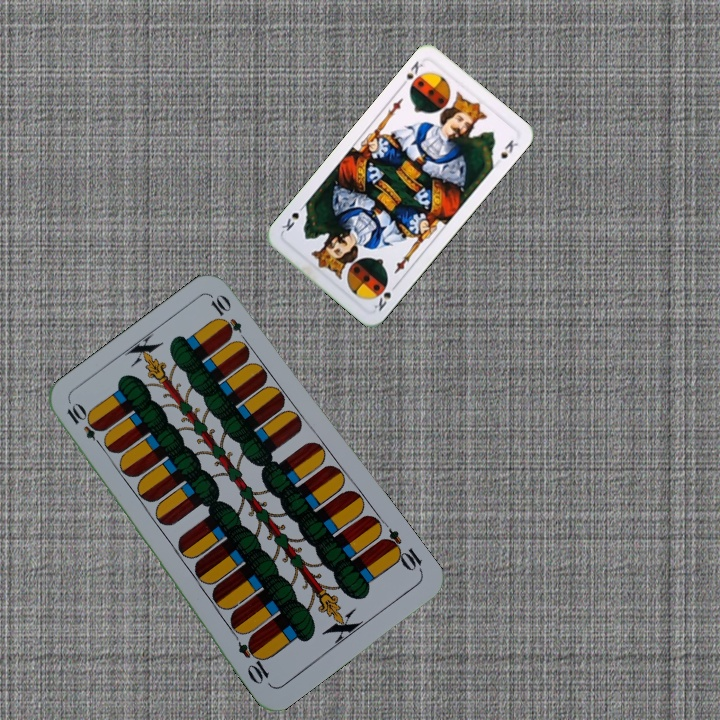E10: (377, 525, 426, 576), (62, 400, 108, 452)
SK: (370, 279, 400, 314), (397, 57, 427, 90)
